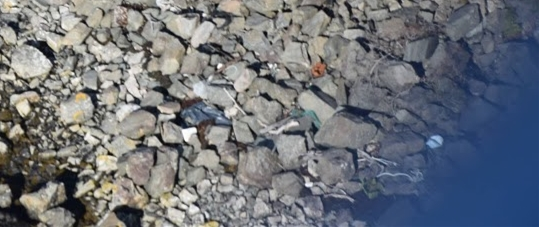scattered_barrel: (172, 51, 337, 150)
white_in_green: (406, 109, 468, 167)
